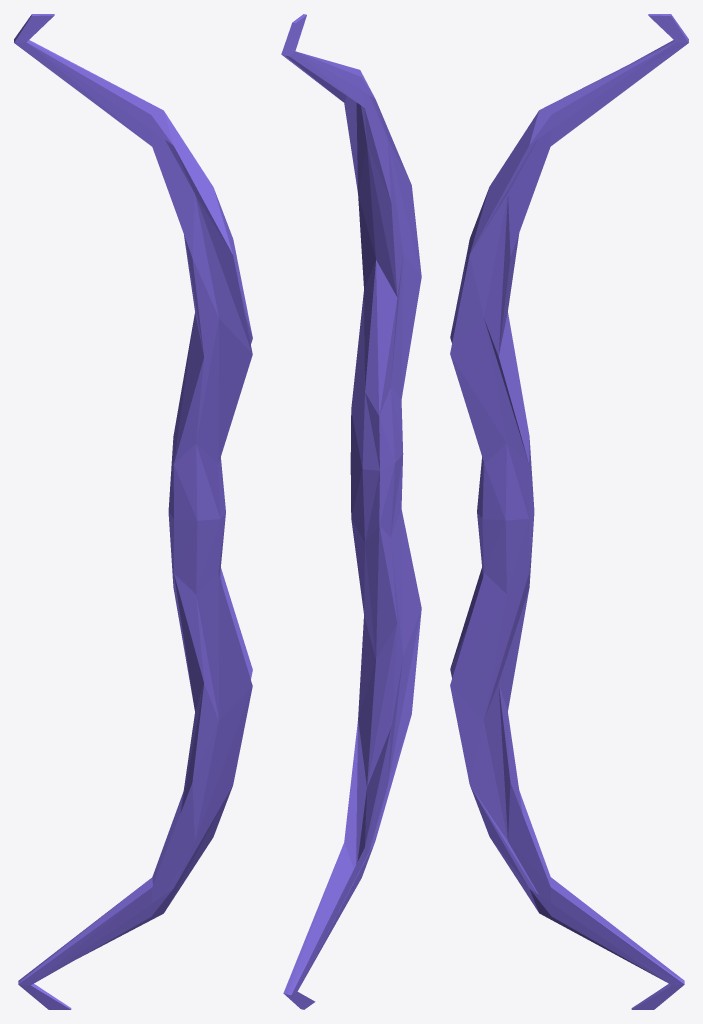
Rendered from MagicShortbow.glb.
3 views of the same model, side by side, from view 1: azimuth 90°, elevation 25°; view 2: azimuth 150°, elevation 25°; view 3: azimuth 270°, elevation 25° (orthographic).
Visible parts, largest first — view 1: EQ_MysticShortbow; view 2: EQ_MysticShortbow; view 3: EQ_MysticShortbow.
Part boxes in pixels (x1,y1,x2,y2): EQ_MysticShortbow: (14,14,252,1009); EQ_MysticShortbow: (281,14,421,1009); EQ_MysticShortbow: (450,14,688,1009).
Size of the model in its own units: 0.0393 by 1.03 by 0.2245.
